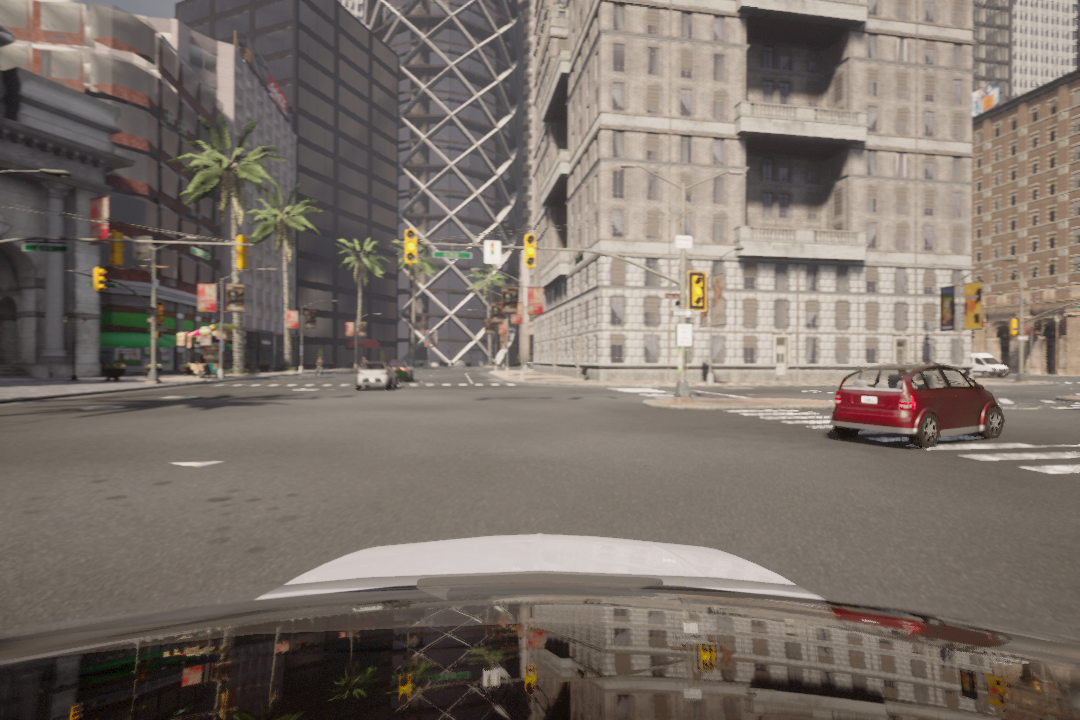TrafficLight: (687, 271, 709, 310), (403, 229, 417, 266), (524, 236, 535, 268), (94, 267, 107, 290)
walkside: (732, 408, 1080, 484), (214, 381, 517, 390)
